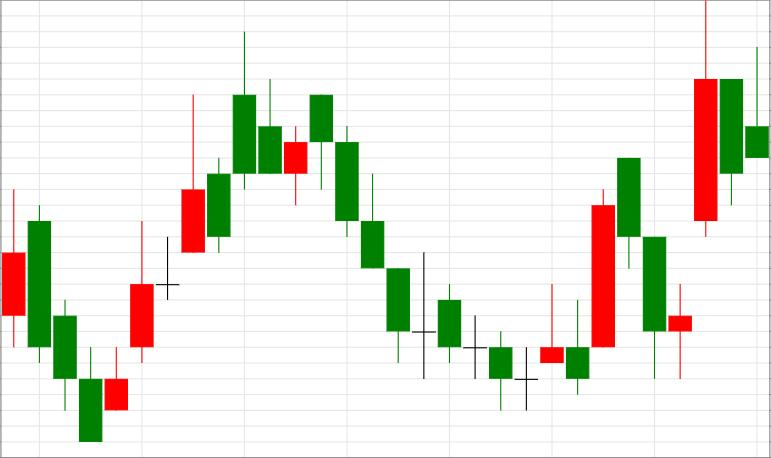three_black_crows_fall: (105, 31, 384, 411)
